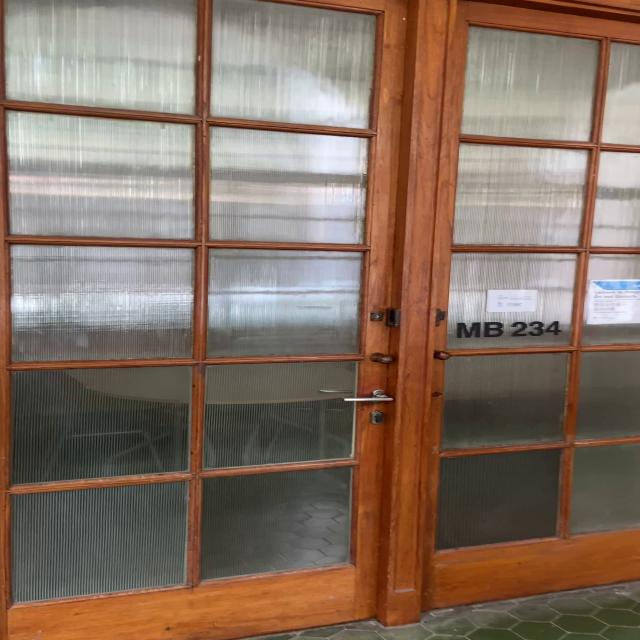room234Window: (448, 318, 564, 341)
